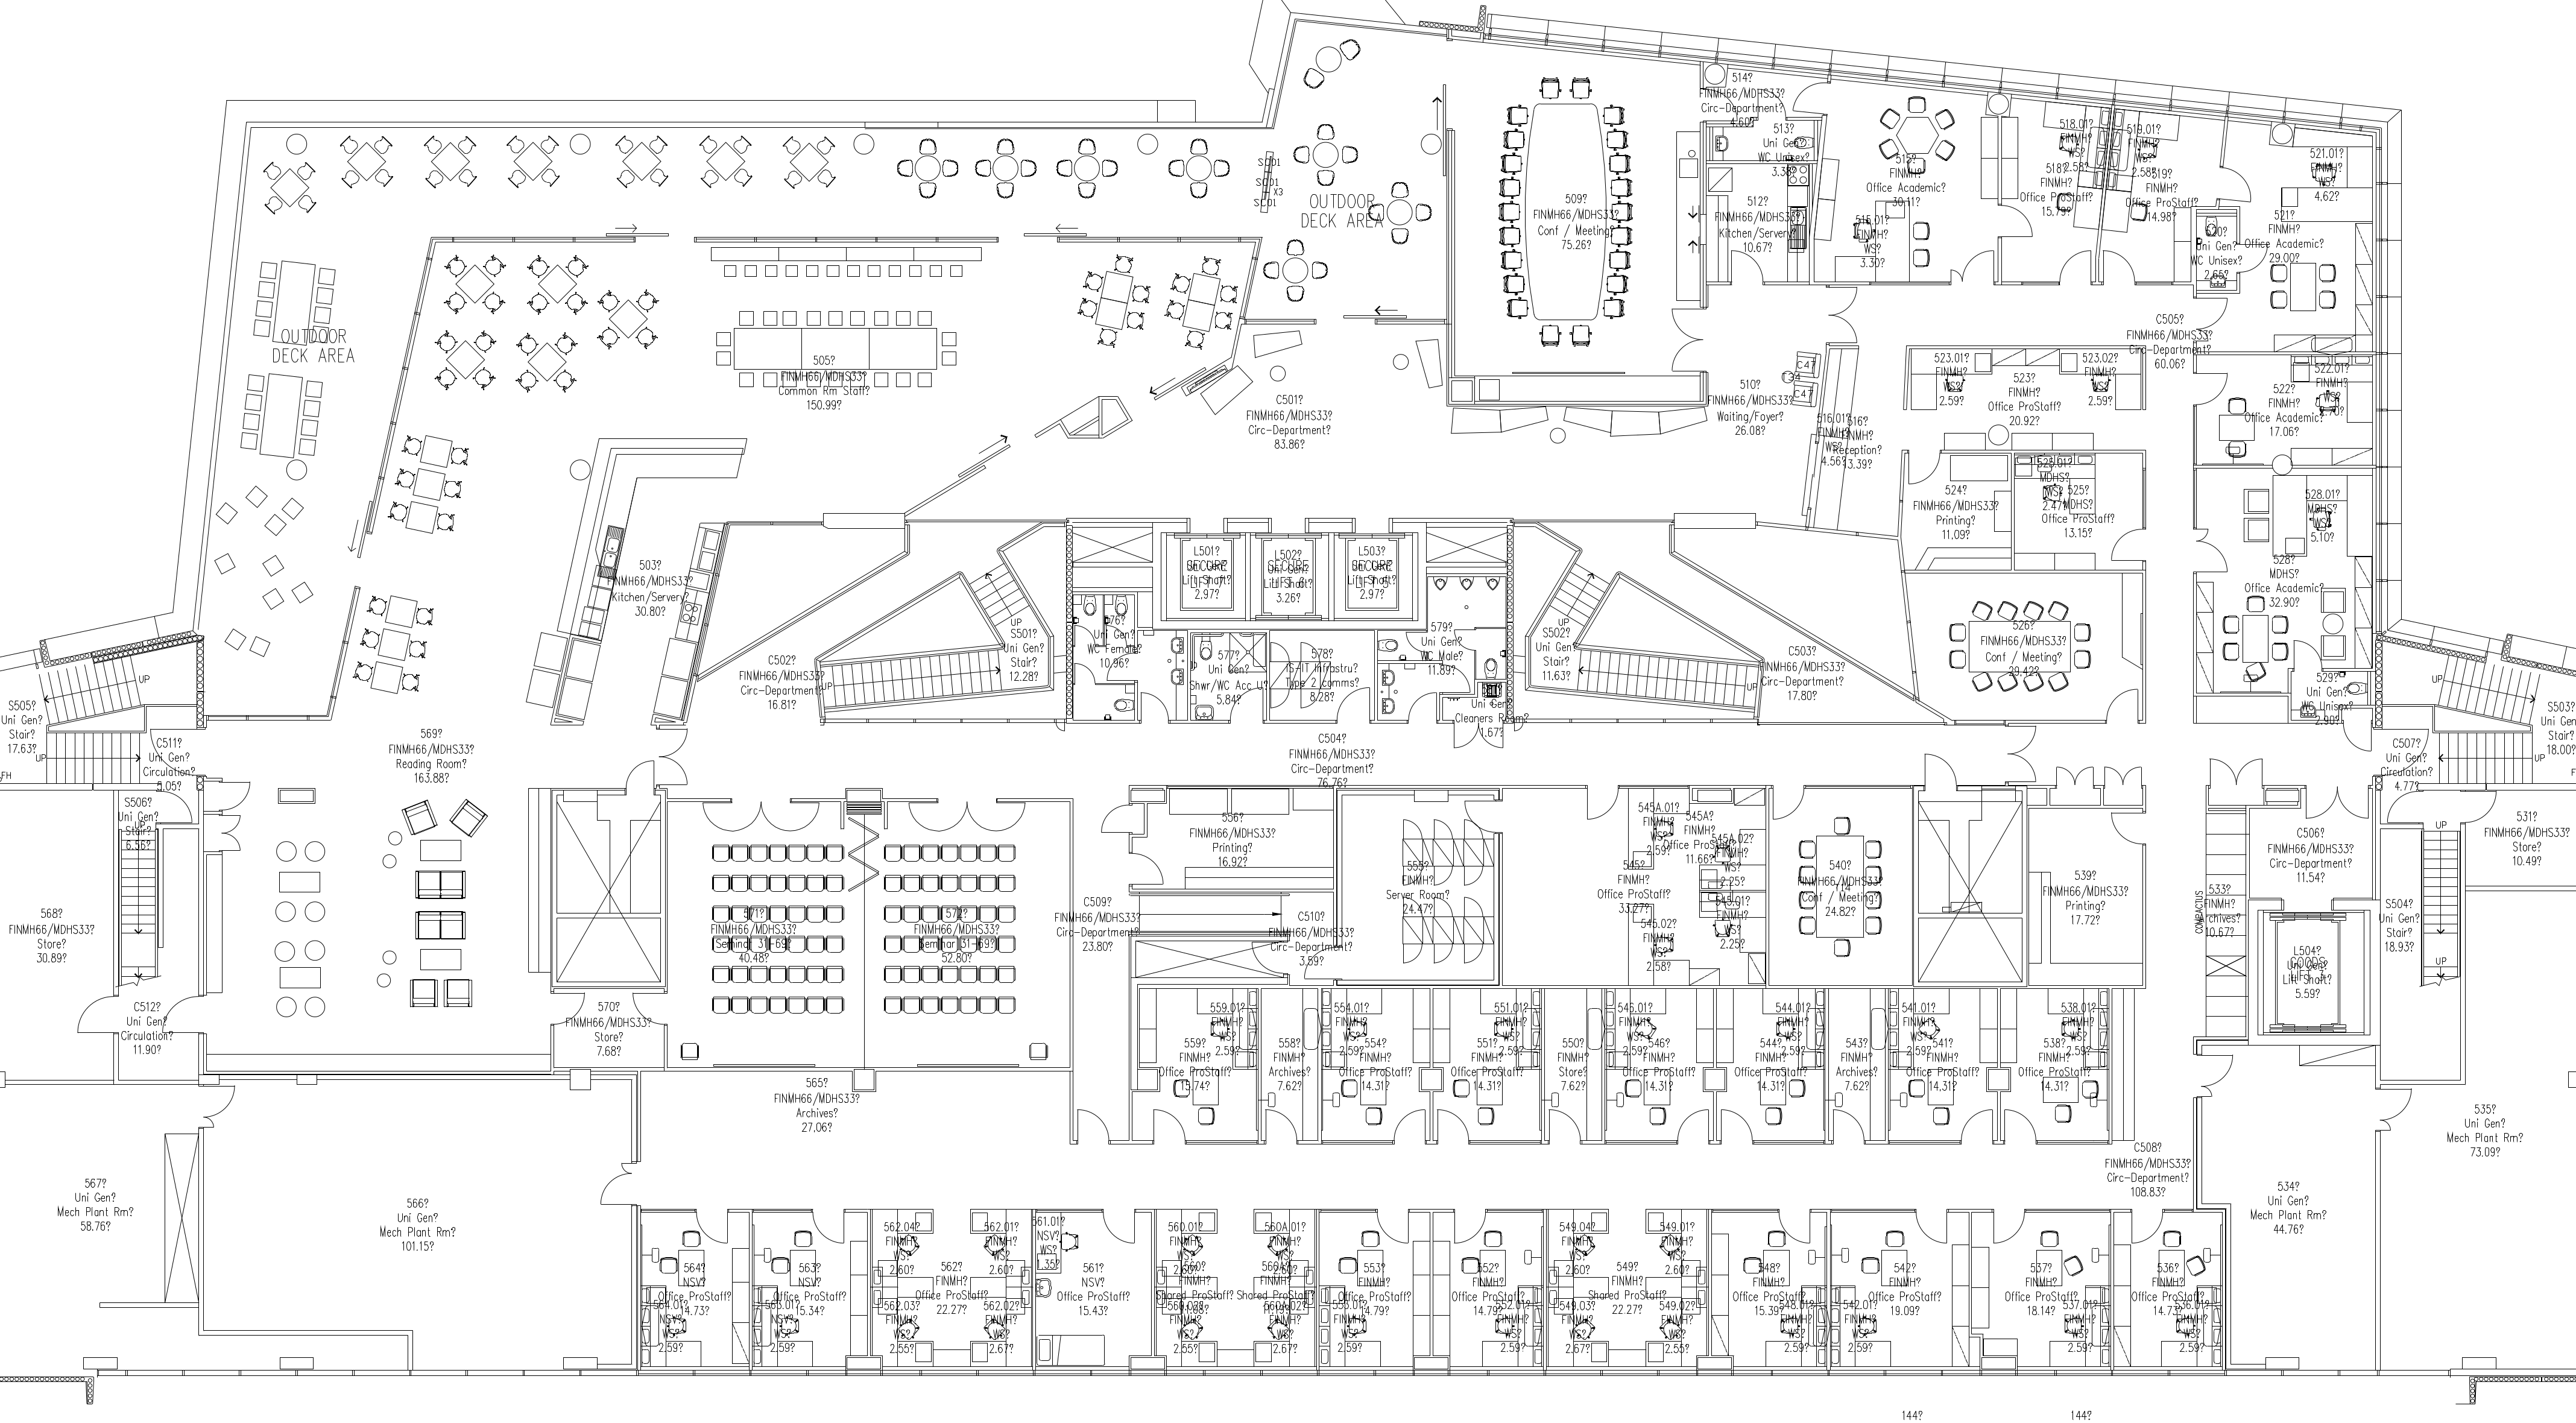room: (205, 1081, 633, 1330), (223, 722, 527, 1053), (1030, 324, 1447, 522), (1454, 65, 1700, 375), (641, 1073, 1069, 1209), (694, 244, 1001, 426), (2381, 1085, 2576, 1369), (1262, 19, 1446, 317), (864, 801, 1069, 1067), (1502, 789, 1766, 987), (668, 803, 864, 1067), (2, 1087, 198, 1304), (1814, 79, 1998, 282), (2197, 468, 2373, 669), (0, 790, 114, 1080), (1921, 575, 2143, 722), (1342, 796, 1493, 981), (1770, 789, 1912, 985), (2203, 1046, 2376, 1204), (1549, 1209, 1707, 1370), (873, 1209, 1032, 1367), (1157, 1209, 1314, 1367), (2231, 1204, 2374, 1369), (1910, 349, 2143, 449), (1377, 577, 1507, 754), (1831, 1209, 1968, 1367), (2466, 892, 2576, 1083), (1919, 785, 2026, 981), (2098, 109, 2217, 282), (1132, 789, 1332, 890), (2029, 808, 2141, 985), (2381, 829, 2460, 1080), (2196, 356, 2373, 466), (1712, 1209, 1826, 1370), (1036, 1209, 1153, 1365), (1139, 988, 1255, 1141), (1320, 1209, 1430, 1369), (754, 1213, 867, 1367), (1433, 1209, 1542, 1370), (2001, 100, 2096, 282), (640, 1213, 750, 1367), (2113, 1213, 2222, 1367), (1433, 988, 1542, 1141), (1716, 988, 1824, 1141), (1999, 988, 2108, 1141), (1605, 988, 1714, 1139), (1889, 990, 1998, 1141), (1323, 988, 1430, 1141), (2015, 456, 2141, 570), (1072, 596, 1186, 720), (1905, 454, 2012, 570), (1705, 165, 1810, 282), (2264, 913, 2364, 1032), (2250, 810, 2373, 897), (2466, 790, 2576, 885), (2197, 294, 2373, 352), (1270, 631, 1376, 720), (1544, 990, 1602, 1141), (1828, 990, 1886, 1141), (1262, 990, 1318, 1141), (556, 990, 664, 1067), (2241, 223, 2355, 291), (117, 995, 200, 1081), (1334, 536, 1412, 620), (1192, 633, 1267, 720), (1167, 536, 1246, 619), (1251, 536, 1328, 620), (1703, 67, 1828, 116), (0, 671, 46, 783), (2532, 669, 2576, 783), (1705, 121, 1814, 161), (2250, 147, 2348, 189), (2292, 673, 2371, 724), (147, 708, 200, 783), (1290, 894, 1332, 987), (2383, 708, 2432, 783), (2197, 210, 2236, 289), (117, 790, 200, 824)
